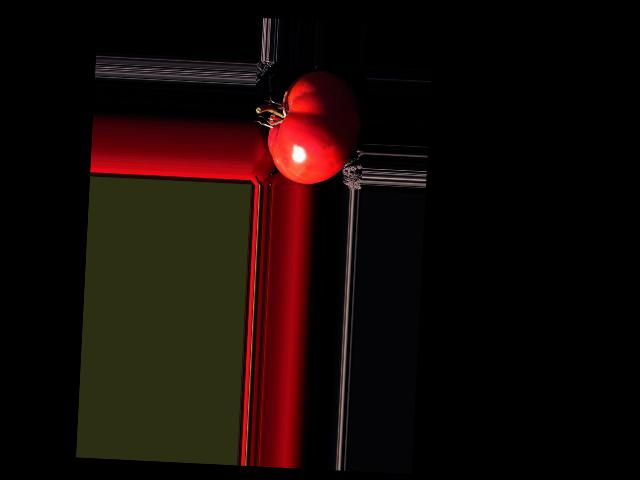tomato: (266, 68, 363, 186)
